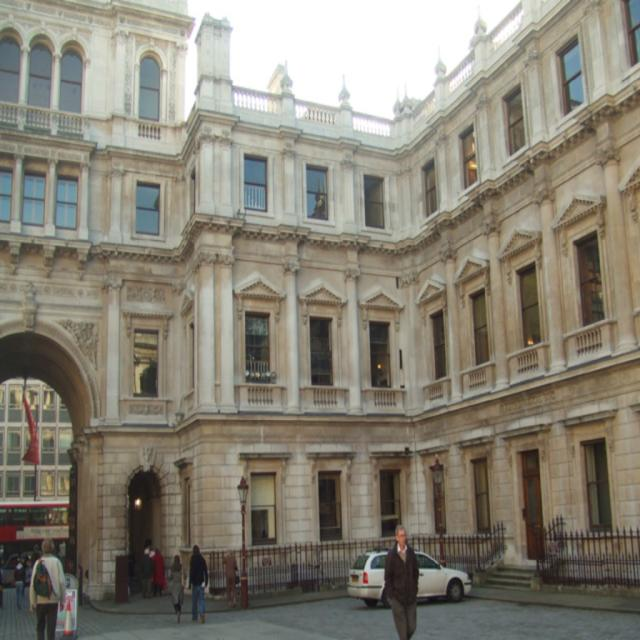car: (347, 544, 469, 616)
